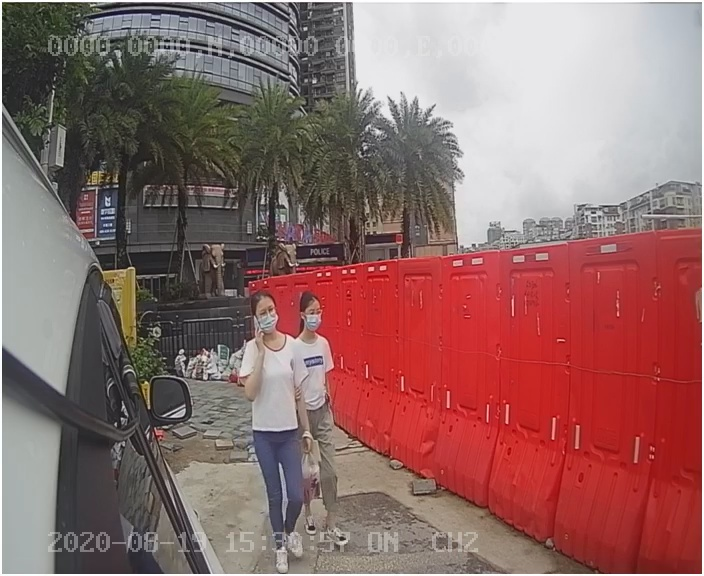person: (229, 291, 340, 552)
